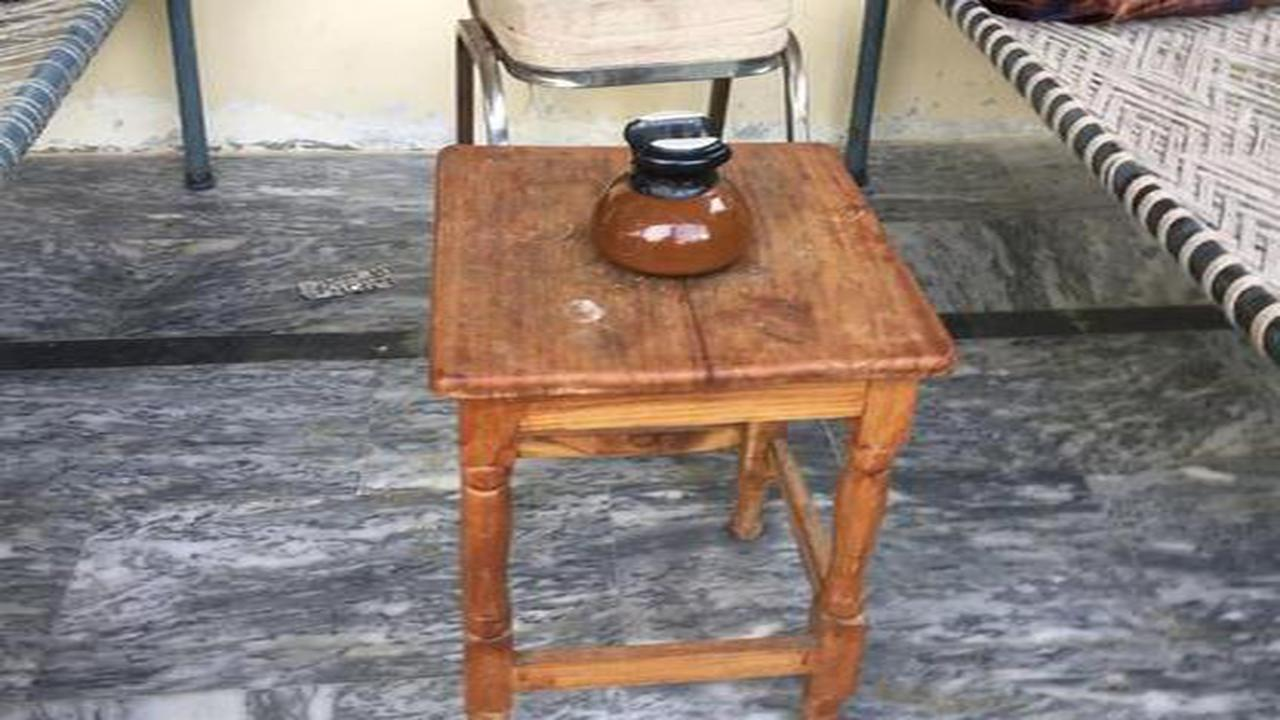insulator_pin: (557, 97, 779, 290)
